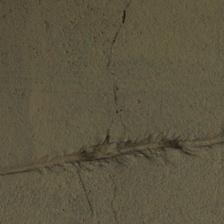Crack: (74, 15, 107, 124), (77, 40, 144, 90), (19, 45, 80, 91), (201, 14, 224, 36)
